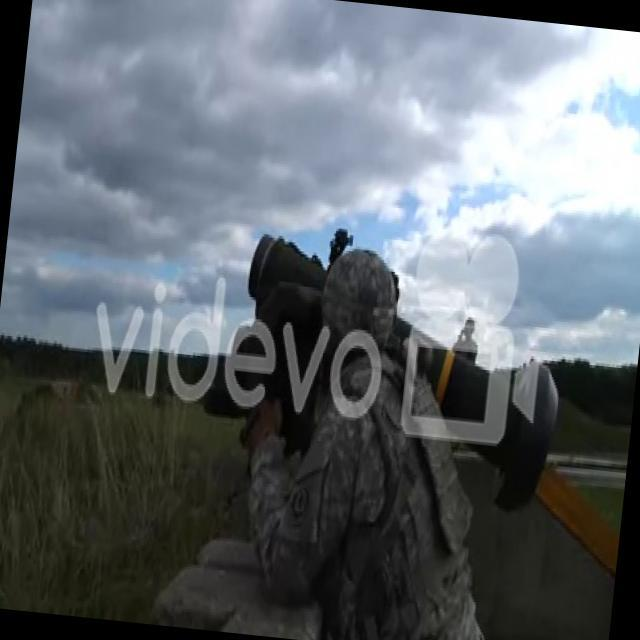rocket: (228, 227, 571, 507)
